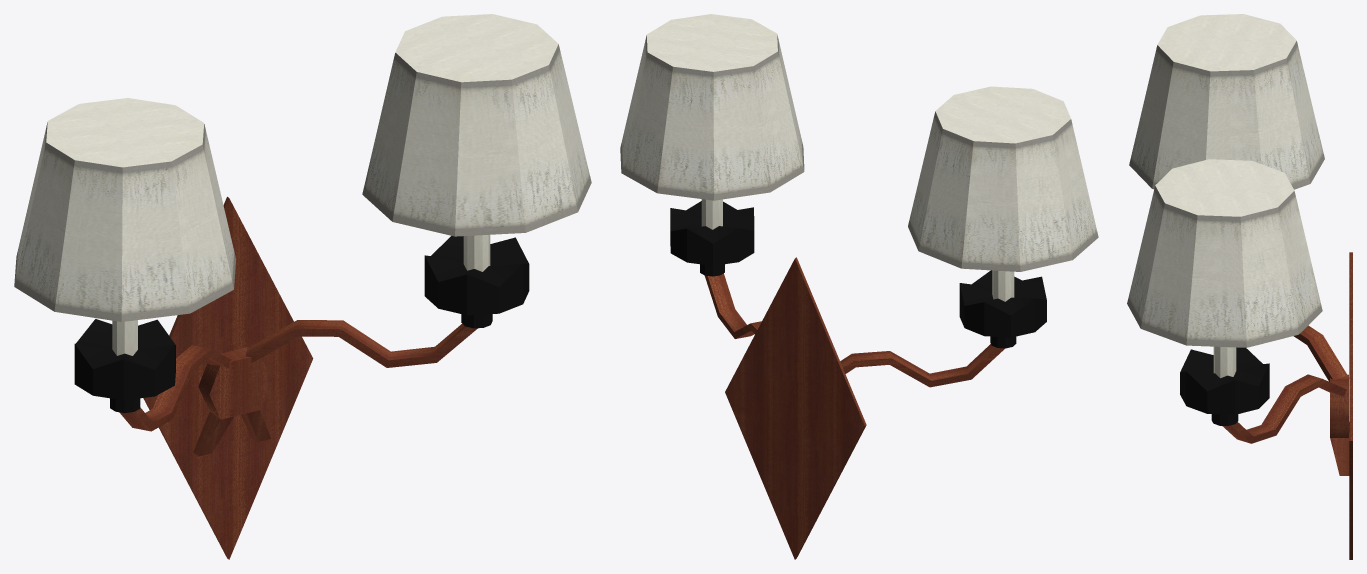
The model's file is Lamp02.fbx.
3 views of the same model, side by side, from view 1: azimuth 30°, elevation 25°; view 2: azimuth 150°, elevation 25°; view 3: azimuth 270°, elevation 25° (orthographic). The views are drawn at different scales.
Parts seen in each view (by area): view 1: lamp02; view 2: lamp02; view 3: lamp02.
Boxes of the visible parts, <box> form: lamp02: <box>14,14,591,559</box>; lamp02: <box>620,14,1098,559</box>; lamp02: <box>1127,14,1352,559</box>.
Size of the model in its own units: 2.31 by 2.12 by 0.9768.
Materials: 3 (2 with a texture image).
